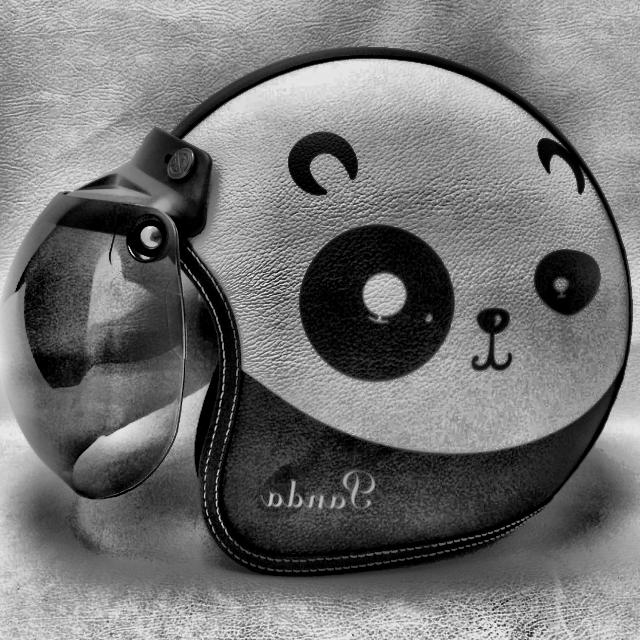Helmet: (0, 46, 636, 590)
